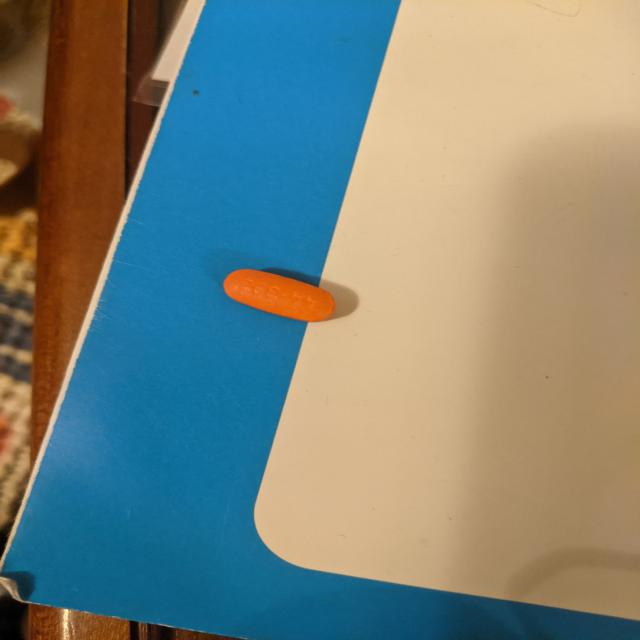non-organic waste: (222, 268, 336, 322)
